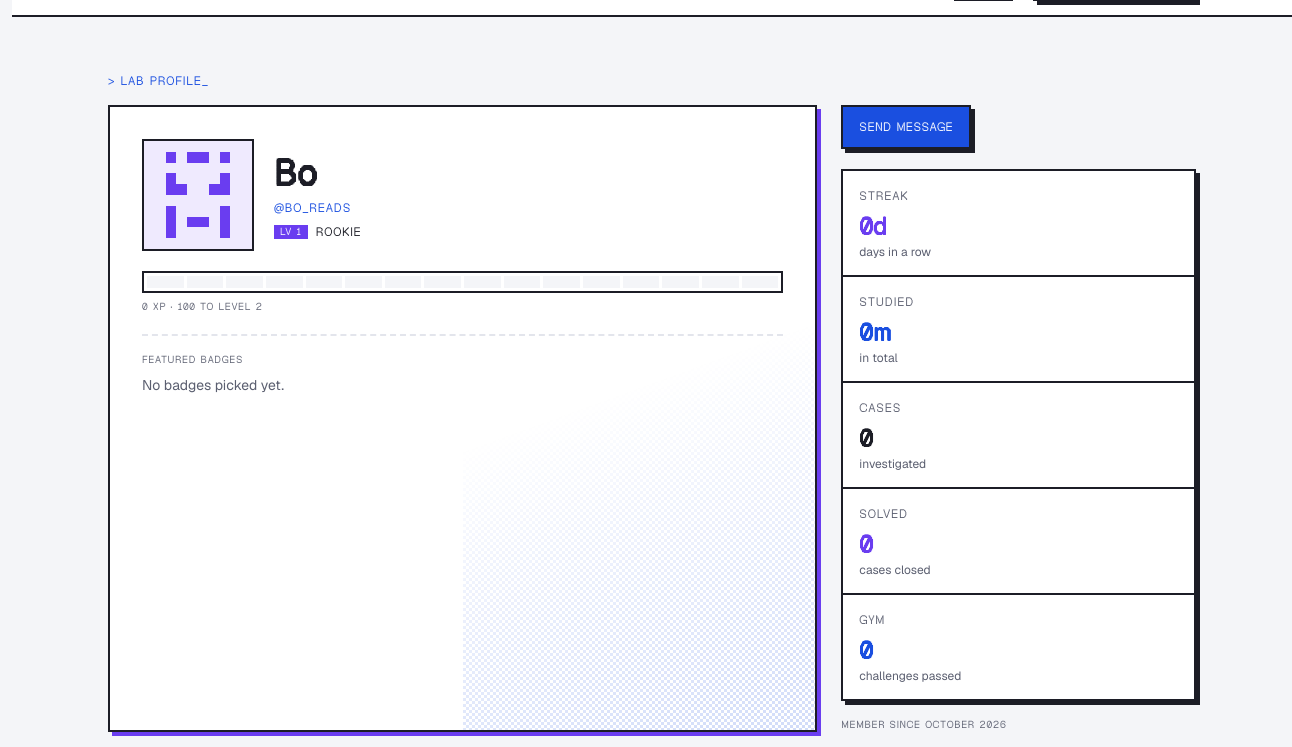
it: starts a conversation from a public profile
Click the button "Send message": (906, 127) [841,105,971,149]
(page scrolled)
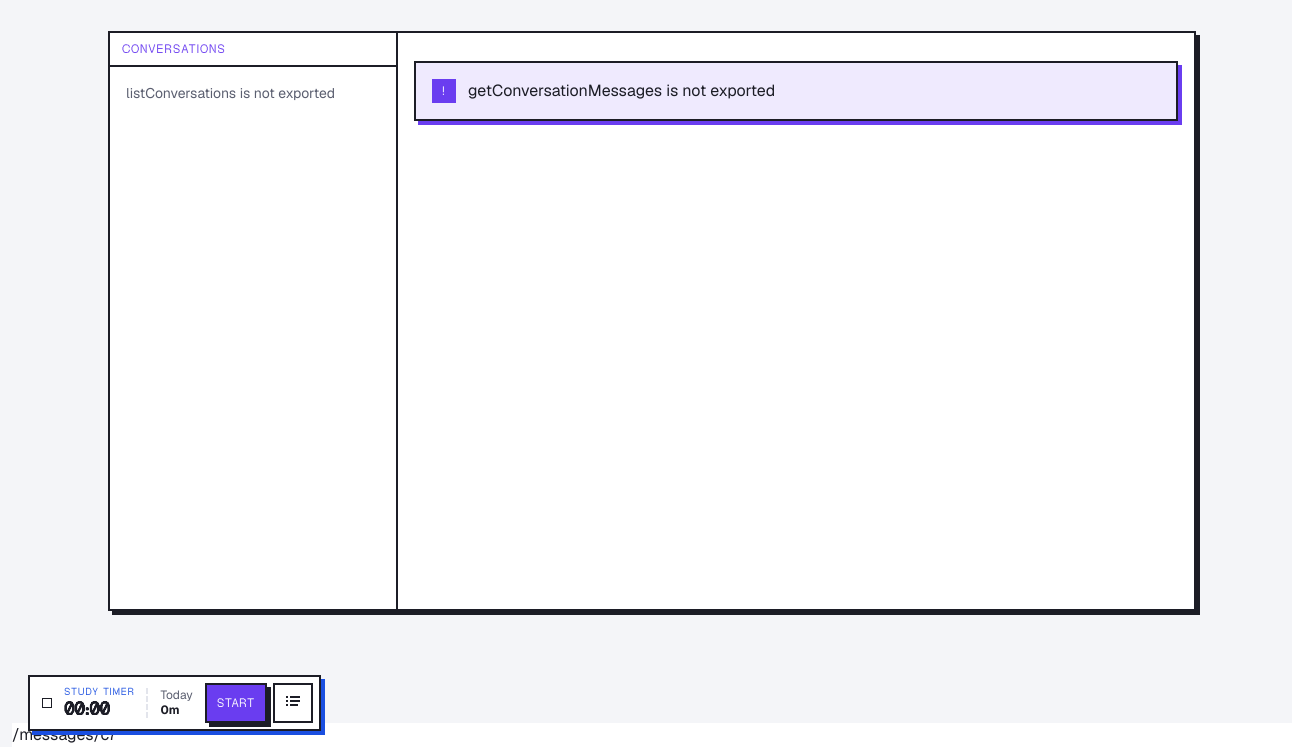
Now the text with test id "location" reads "/messages/c7", box [12,724,116,745]
